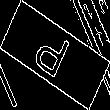P_SW: (33, 24, 77, 86)
